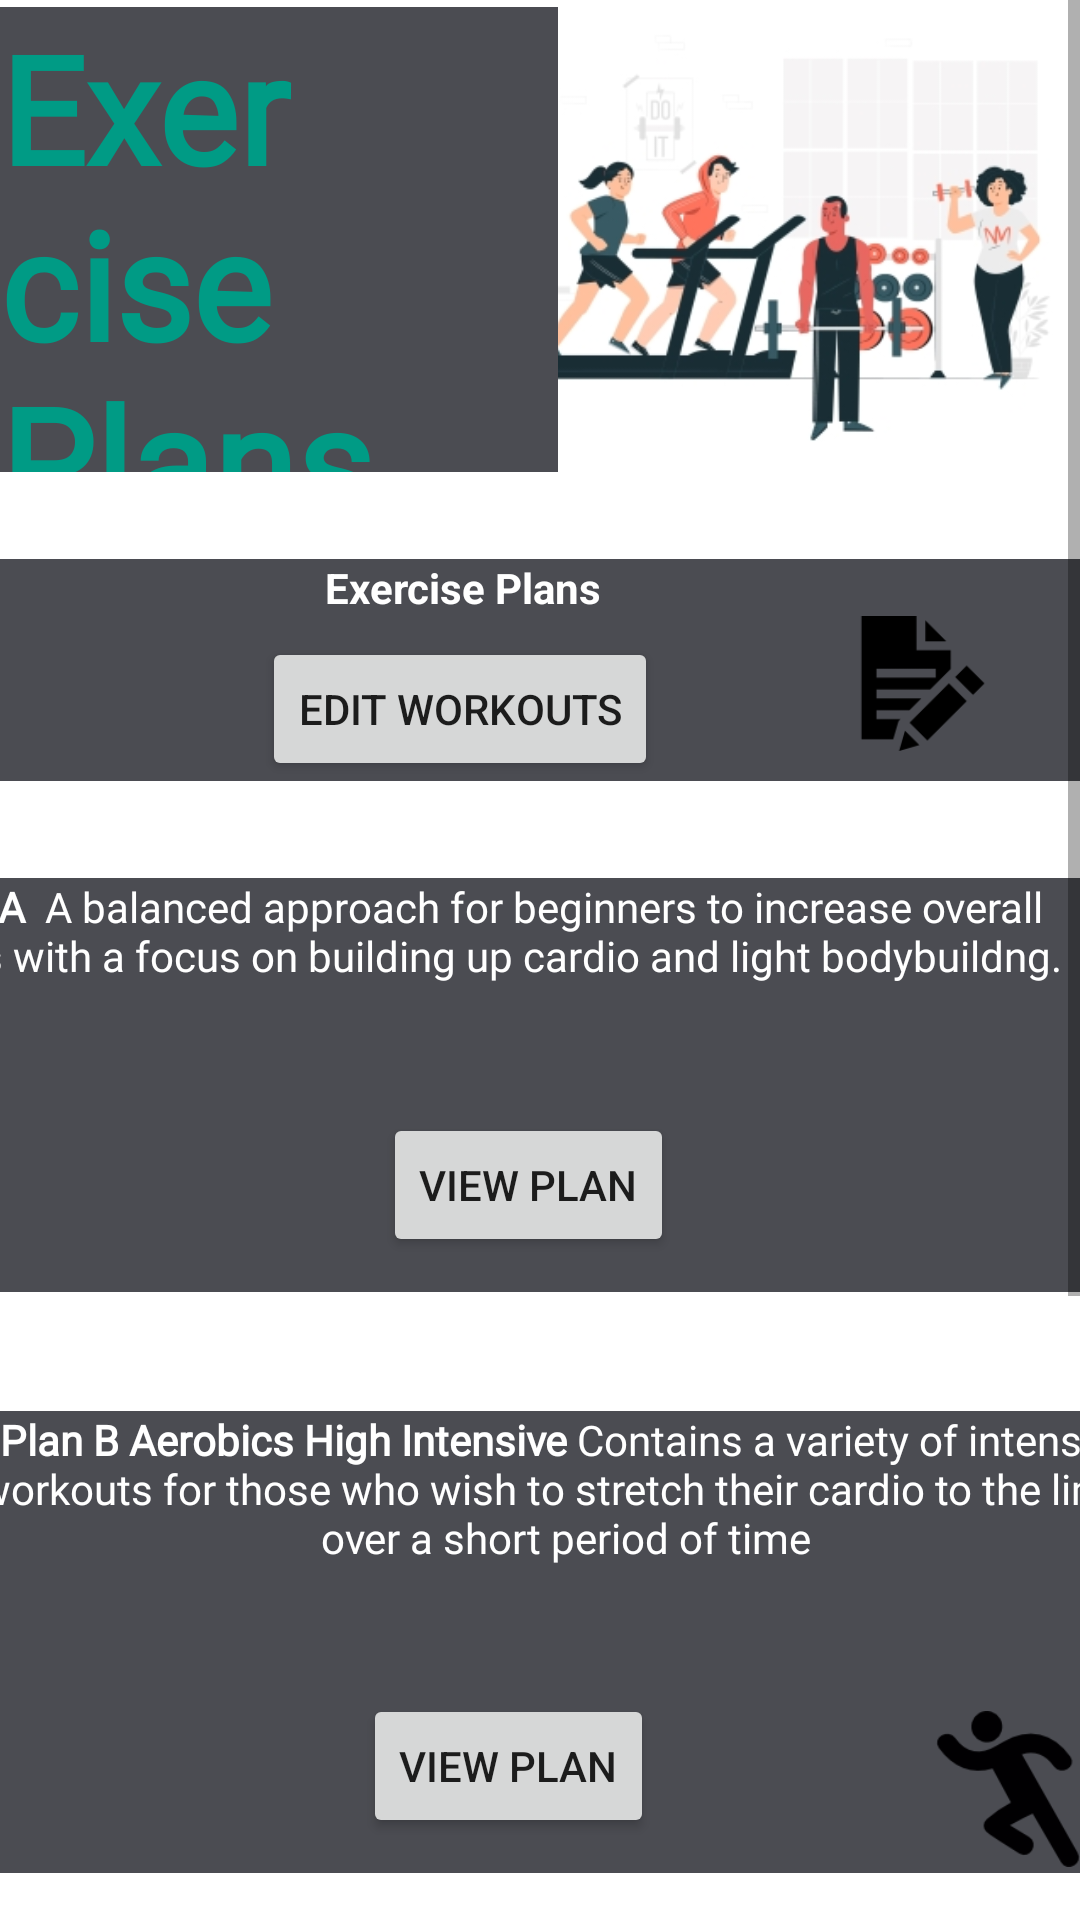

Point at icon controls on the screen. Image size 1080 x 1920, points as (x=x, y=y).
file: (x=922, y=683)
runner: (x=1008, y=1789)
